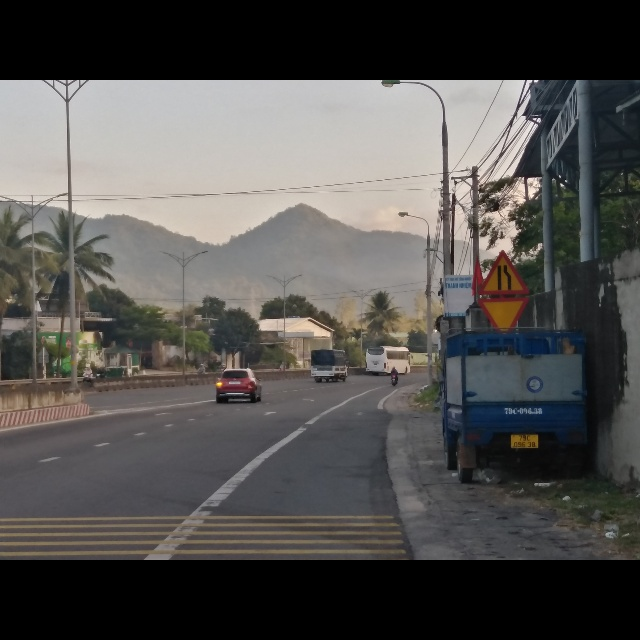Giao nhau với đường ưu tiên: (477, 297, 533, 331)
Đường bị hẹp bên phải: (479, 248, 531, 295)
